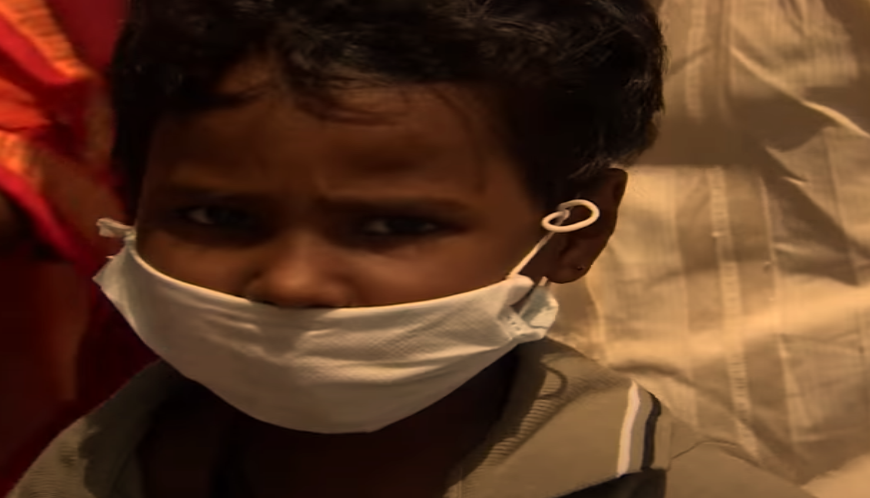mask_weared_incorrect: (90, 7, 616, 436)
